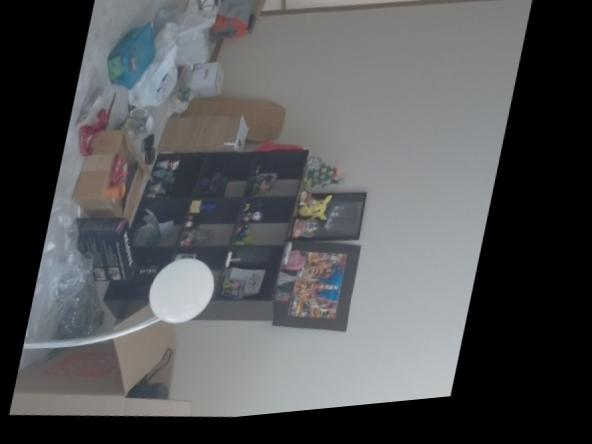Fan: (150, 257, 228, 334)
